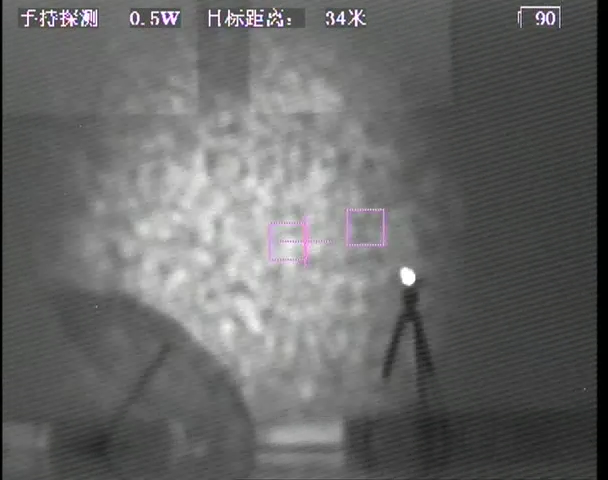my: (398, 266, 419, 286)
